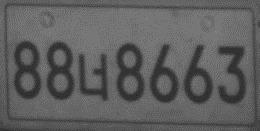3: (217, 45, 246, 104)
6: (149, 42, 178, 101), (184, 44, 213, 103)
8: (115, 43, 144, 101), (14, 40, 41, 99), (47, 41, 74, 100)
너: (78, 52, 108, 101)
